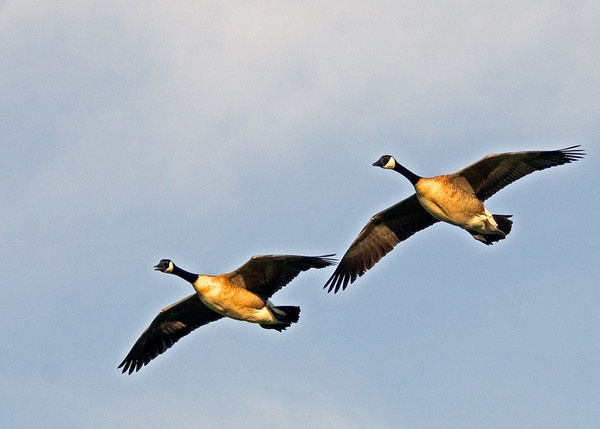bird: (320, 144, 588, 299), (111, 250, 342, 374)
